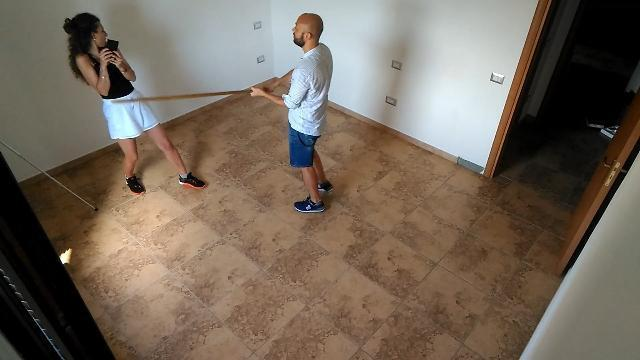violence: (62, 12, 334, 212)
